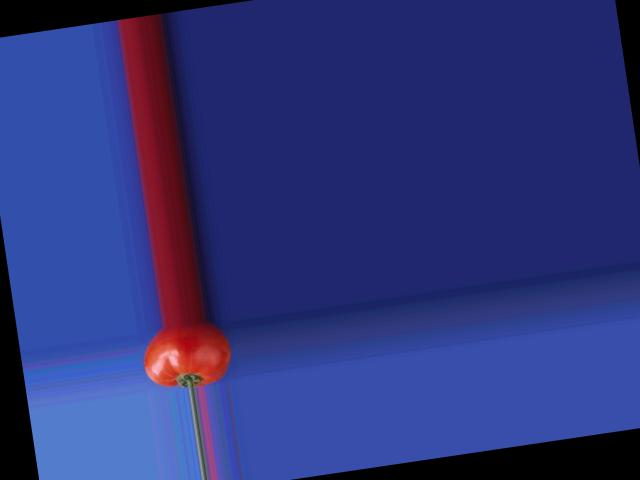tomato: (139, 317, 236, 394)
